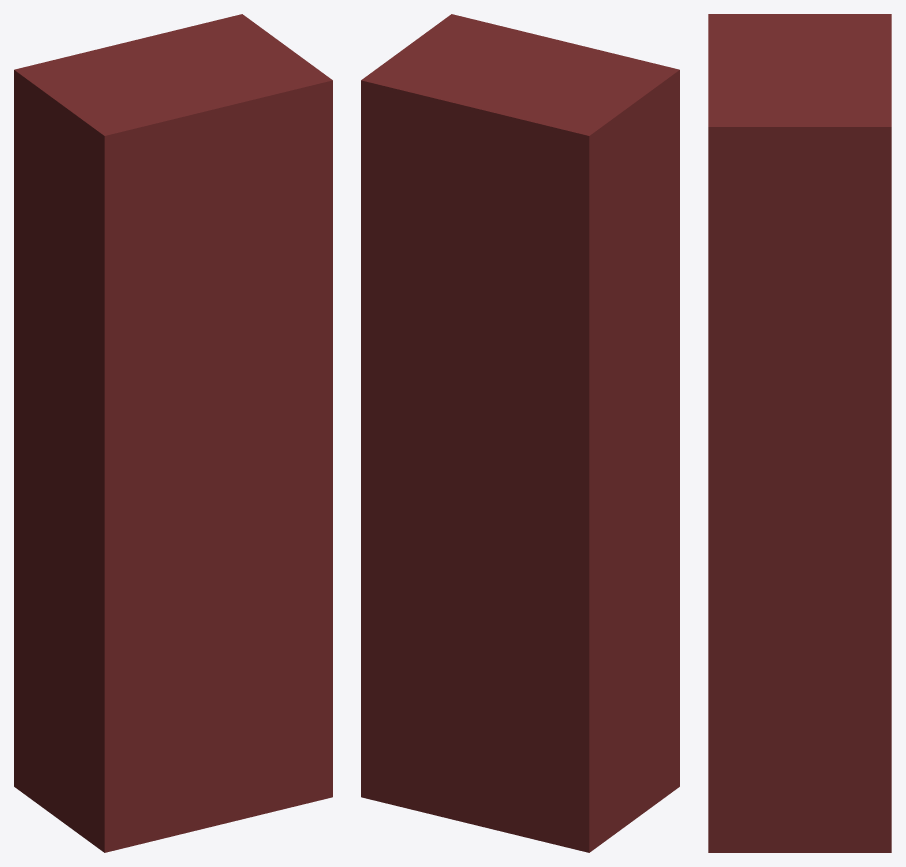
3 renders of one model, left to right at view 1: azimuth 30°, elevation 25°; view 2: azimuth 150°, elevation 25°; view 3: azimuth 270°, elevation 25°, orthographic.
Parts seen in each view (by area): view 1: collision; view 2: collision; view 3: collision.
Boxes of the visible parts, left/top/right/bottom form: collision: left=14, top=14, right=332, bottom=852; collision: left=361, top=14, right=679, bottom=852; collision: left=708, top=14, right=891, bottom=852.
Size of the model in its own units: 0.8 by 2.4 by 0.55.
